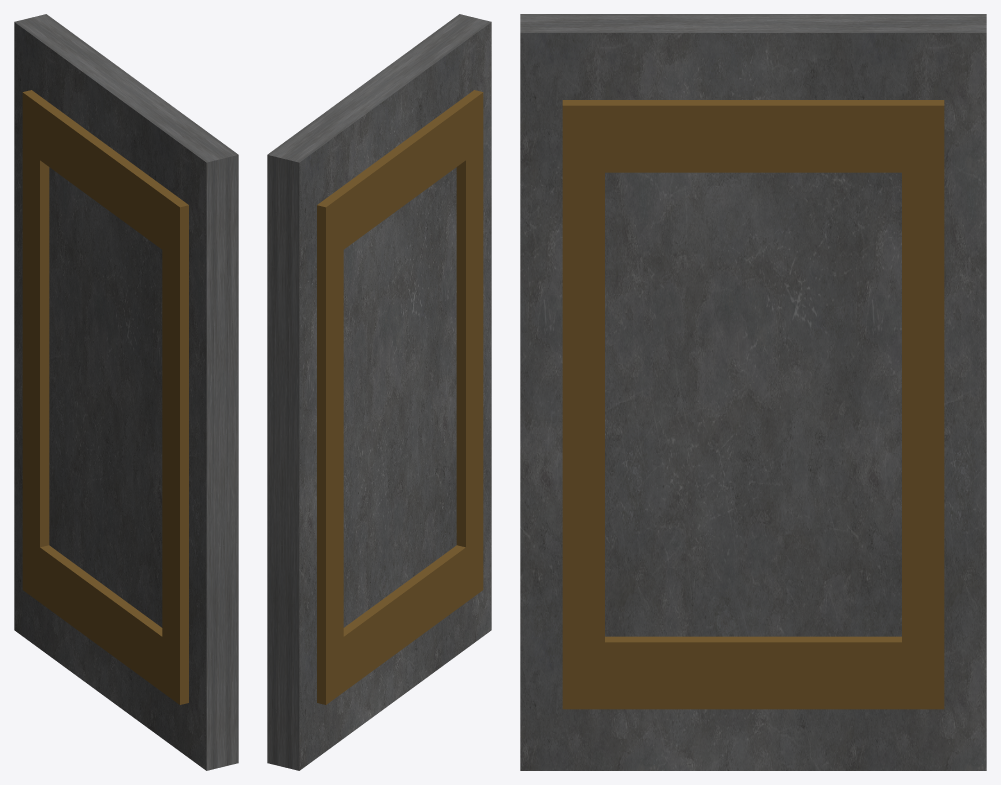
The model's file is door.fbx.
The picture shows the model from 3 angles, left to right: view 1: azimuth 30°, elevation 25°; view 2: azimuth 150°, elevation 25°; view 3: azimuth 270°, elevation 25°; orthographic projection. The views are drawn at different scales.
Visible parts, largest first — view 1: door; view 2: door; view 3: door.
Boxes of the visible parts, x1,y1,x2,y2 form: door: (14,14,238,770); door: (267,14,491,770); door: (520,14,986,770).
Bounding box in the file's own units: 66.07 × 760 × 436.
